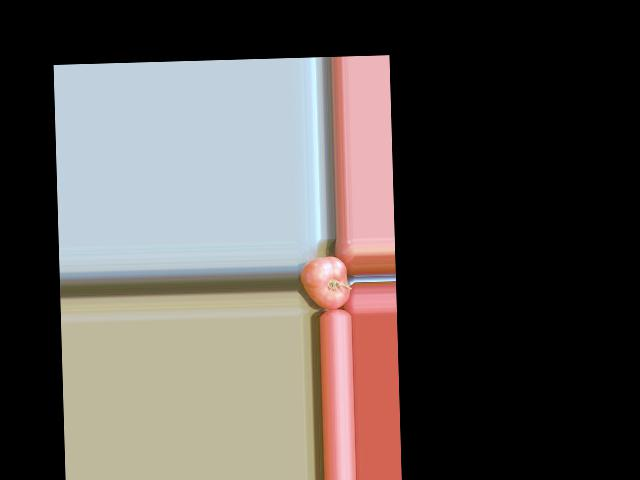tomato: (300, 256, 349, 310)
